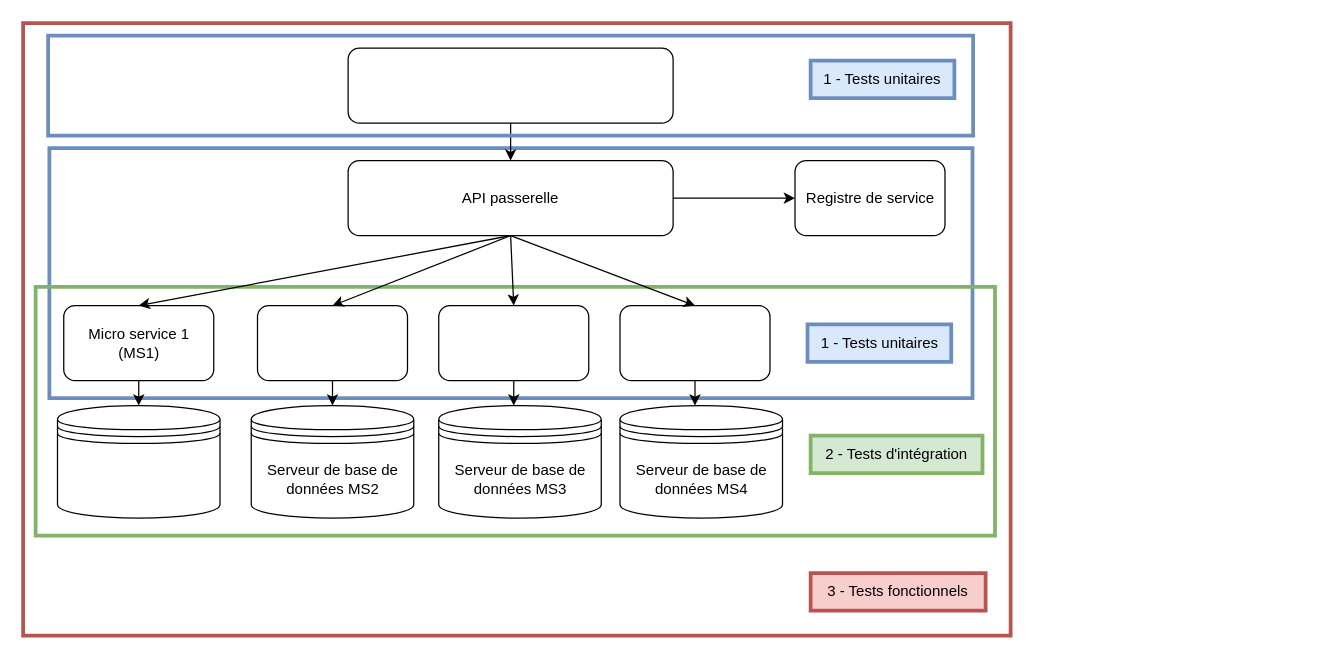
The diagram is 1343 pixels wide and 659 high, and some of its shapes have lost their labels. The centre of each missing label's shape, as x and y in pixels:
"Front - end" goes at point (510, 85).
"Micro service 2 (MS2)" goes at point (332, 342).
"Micro service 3 (MS3)" goes at point (513, 342).
"Micro service 4 (MS4)" goes at point (694, 342).
"Serveur de base de données MS1" goes at point (138, 461).
